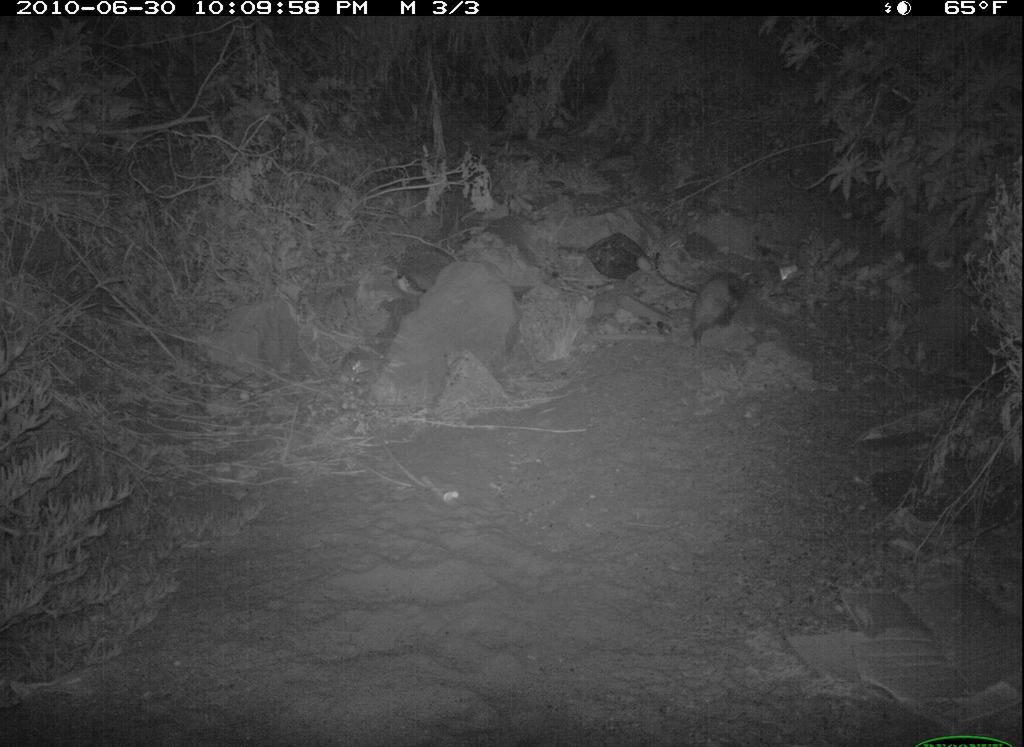opossum: (673, 268, 755, 355)
